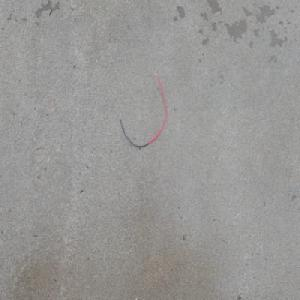Wire: (115, 70, 168, 149)
